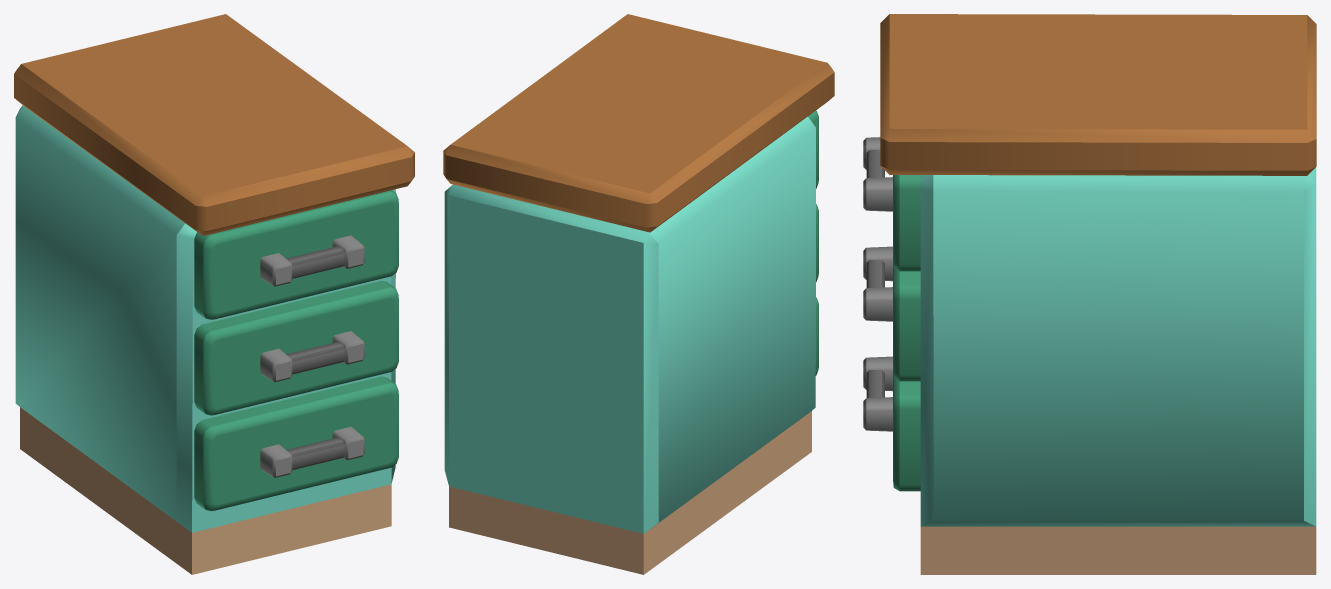
The model's file is Furnit_C_3_C.glb.
3 renders of one model, left to right at view 1: azimuth 30°, elevation 25°; view 2: azimuth 150°, elevation 25°; view 3: azimuth 270°, elevation 25°, orthographic. The views are drawn at different scales.
Visible parts, largest first — view 1: Furnit_C_3_C; view 2: Furnit_C_3_C; view 3: Furnit_C_3_C.
Boxes of the visible parts, x1,y1,x2,y2 form: Furnit_C_3_C: (14, 14, 414, 574); Furnit_C_3_C: (443, 14, 834, 574); Furnit_C_3_C: (863, 14, 1316, 574).
Size of the model in its own units: 0.6 by 1.02 by 0.9348.
1 material, 1 textured.
